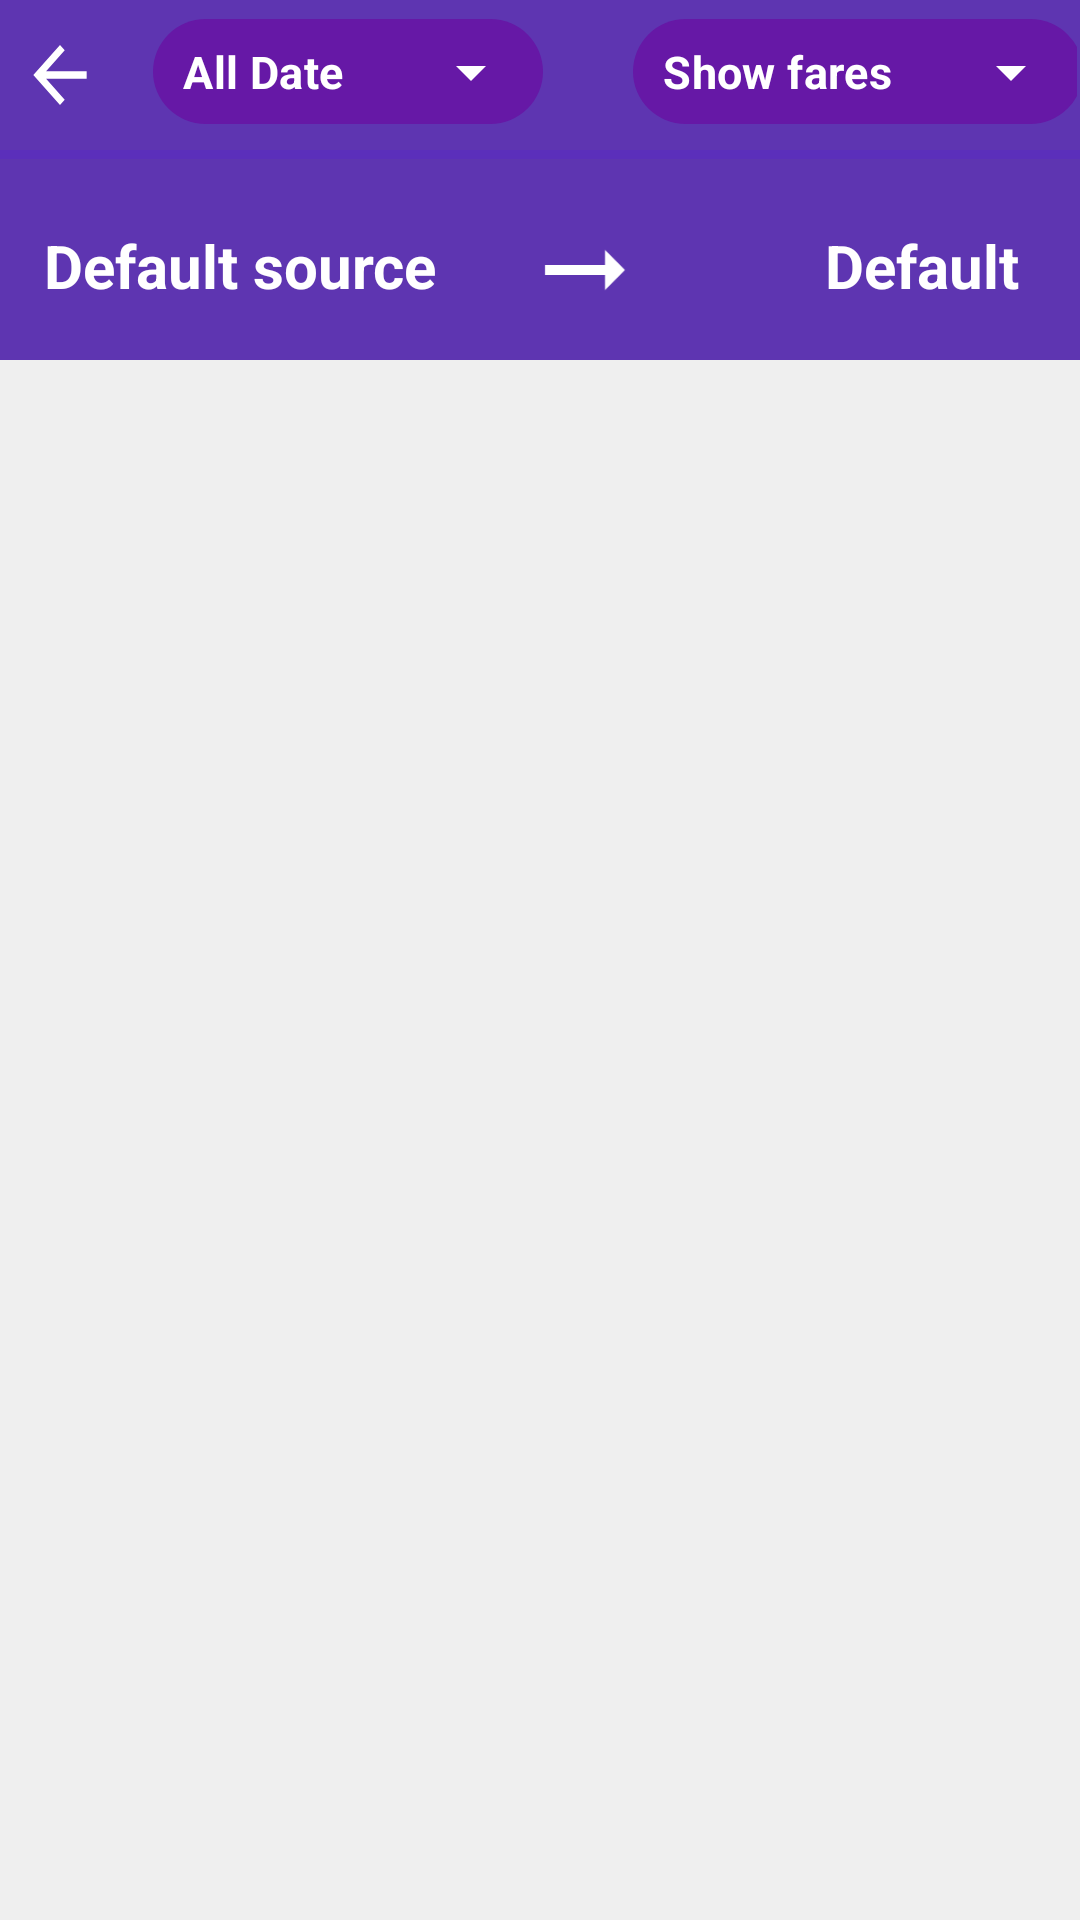

Locate icon controls on the screen. Image size 1080px×1920px, boxes as (x1, y1, x2, y2).
arrow back: (33, 45, 87, 105)
arrow right: (545, 250, 625, 290)
